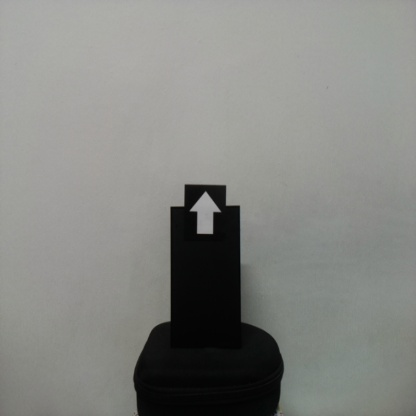id_1: (184, 184, 226, 250)
